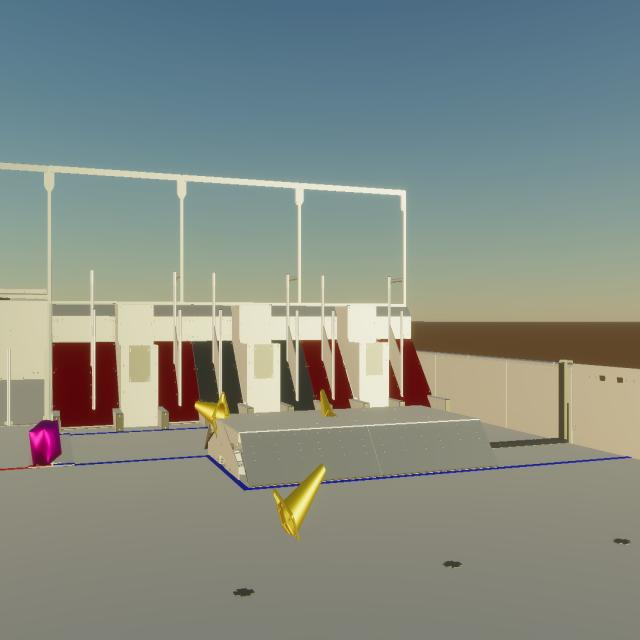frc_cone: (273, 464, 326, 540), (195, 391, 230, 439), (320, 390, 338, 418)
frc_cube: (29, 420, 62, 466)
